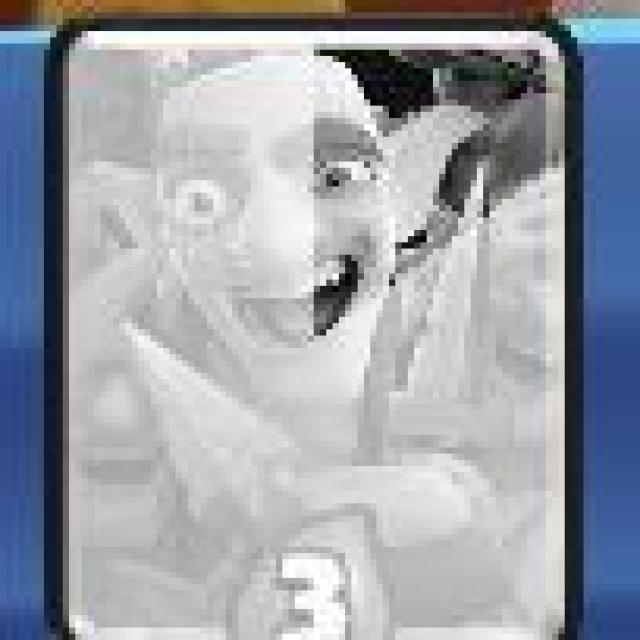Goblin_Gang: (50, 28, 574, 640)
